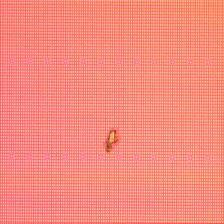PARTICLE: (96, 125, 128, 157)
